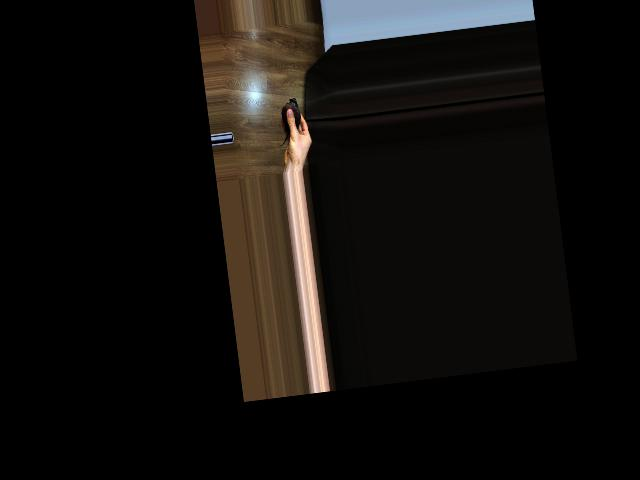beet: (273, 96, 303, 145)
